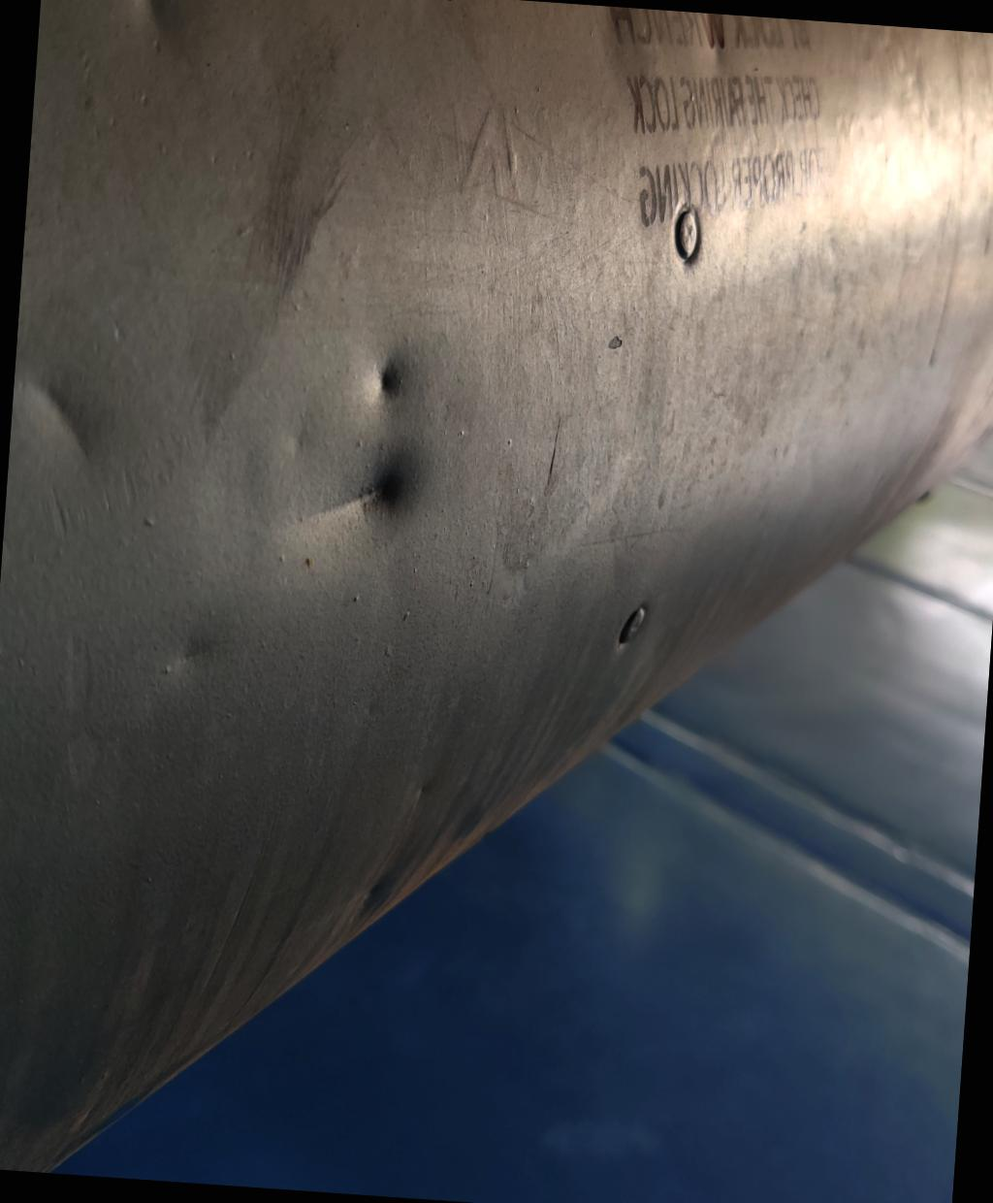dent: (236, 428, 436, 569), (6, 349, 136, 512), (68, 0, 208, 95), (339, 312, 434, 437)
